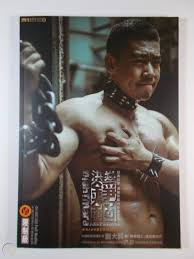asian_male: (101, 24, 166, 108)
